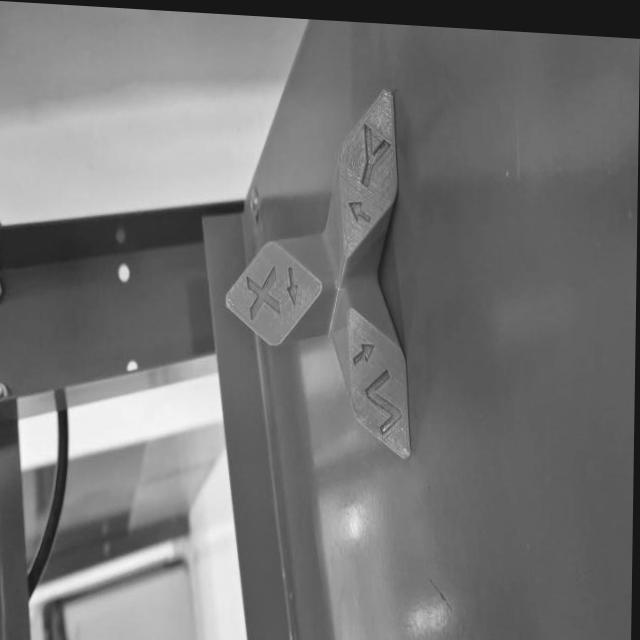eje: (220, 73, 422, 468)
